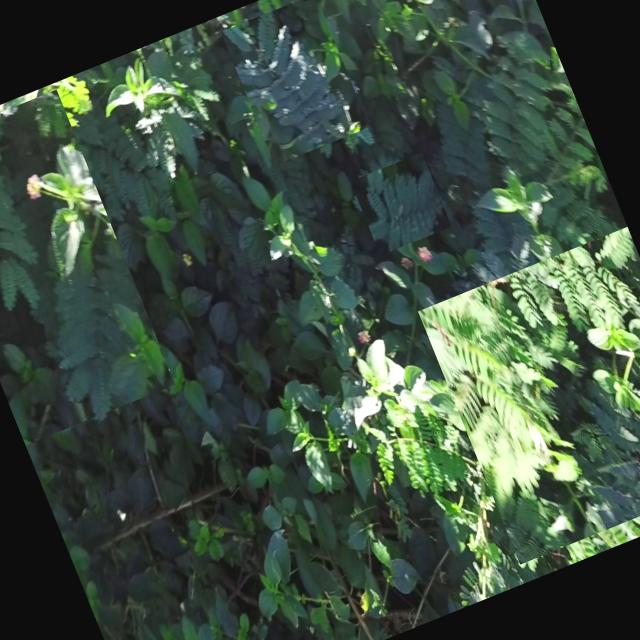Mysore-Thorn-Weed: (417, 226, 640, 564), (0, 89, 175, 444), (220, 0, 369, 165), (350, 152, 451, 255)
